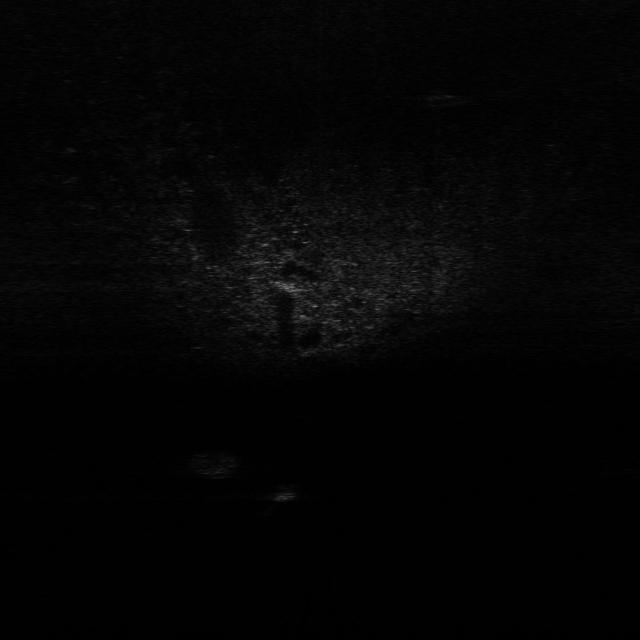circle cage: (187, 445, 237, 481)
cylinder: (268, 484, 301, 520)
